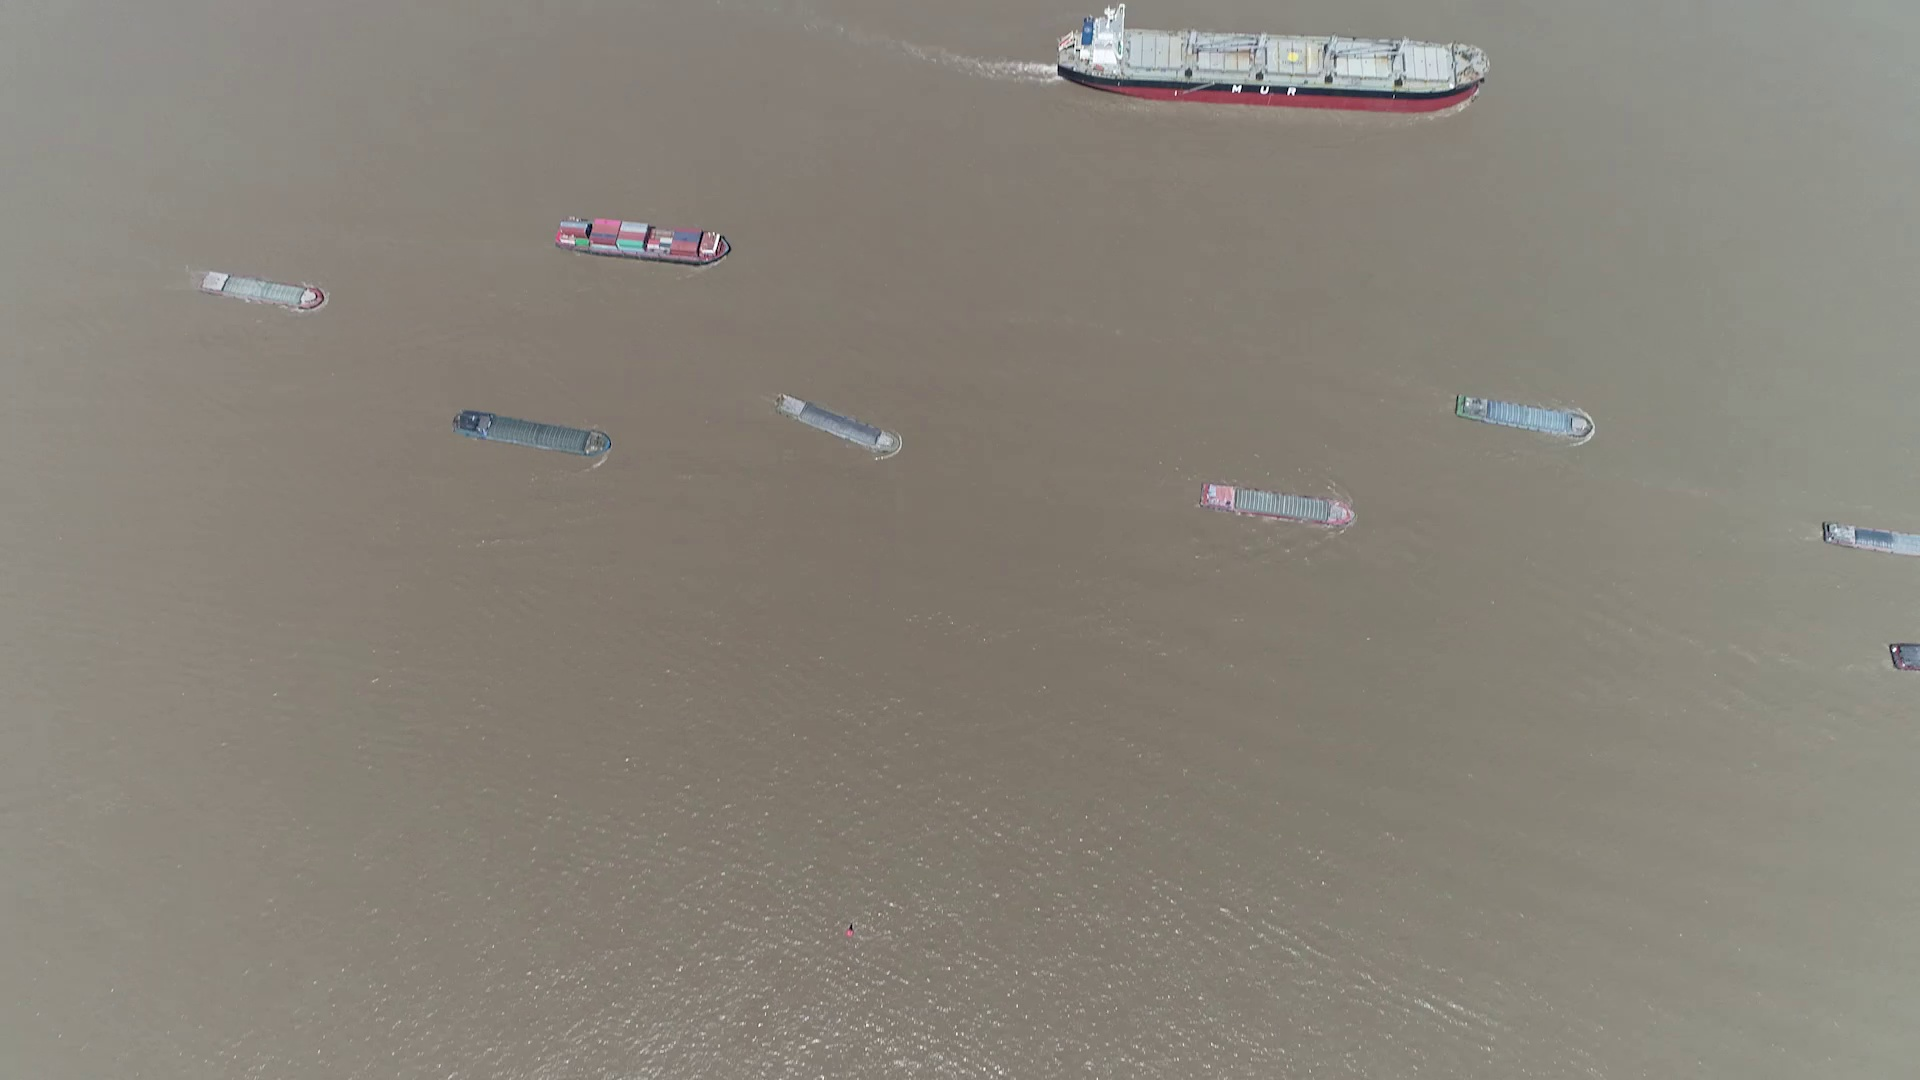ship: (1058, 7, 1487, 115), (556, 218, 733, 264), (454, 411, 615, 458), (781, 396, 905, 455), (1452, 394, 1596, 439), (1200, 484, 1352, 526), (196, 272, 323, 309), (1821, 520, 1920, 556), (1890, 642, 1920, 673)
